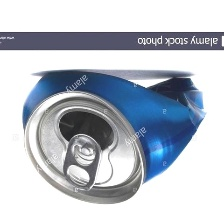can: (12, 56, 214, 211)
